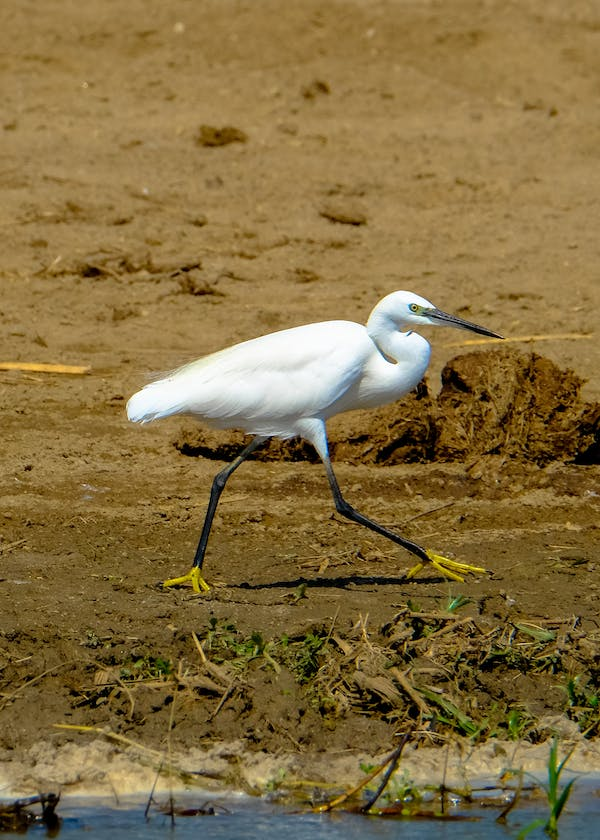Walking: (85, 213, 513, 617)
